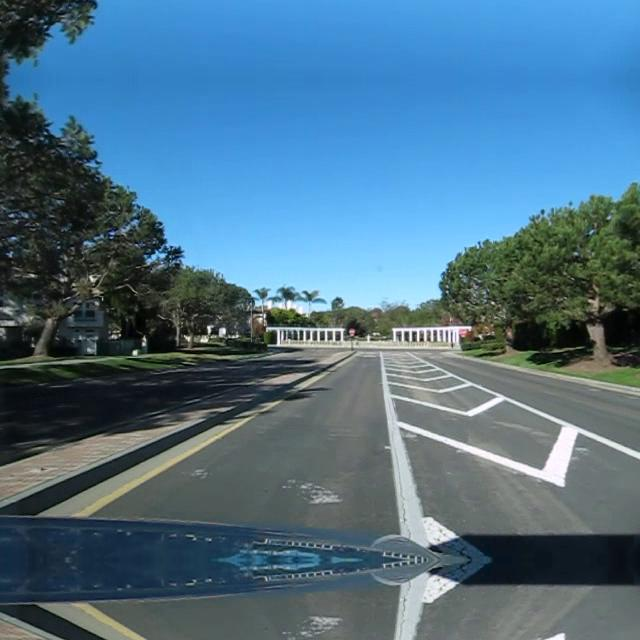stop: (458, 326, 467, 336), (348, 328, 354, 334)
